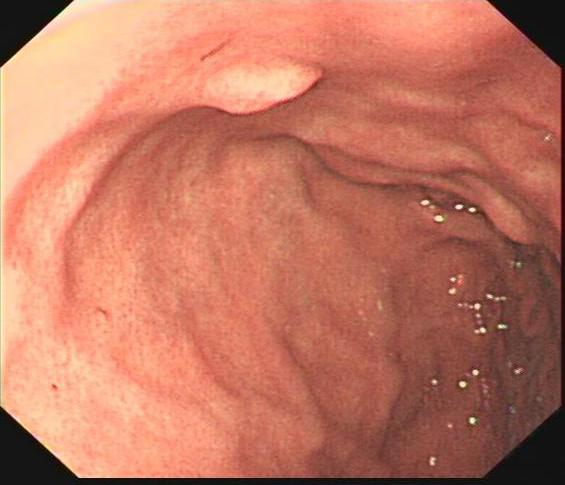Polyp: (201, 57, 328, 118)
